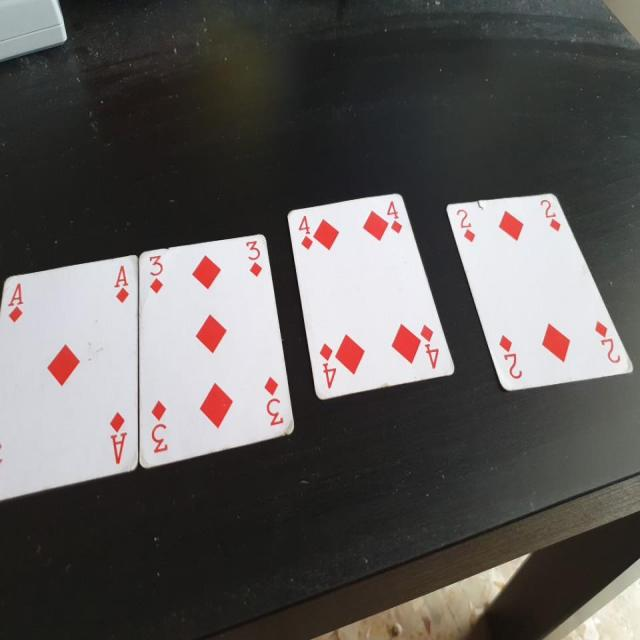2 Diamonds: (448, 192, 640, 389)
3 Diamonds: (140, 233, 298, 470)
4 Diamonds: (287, 184, 456, 408)
A Diamonds: (0, 250, 136, 493)
